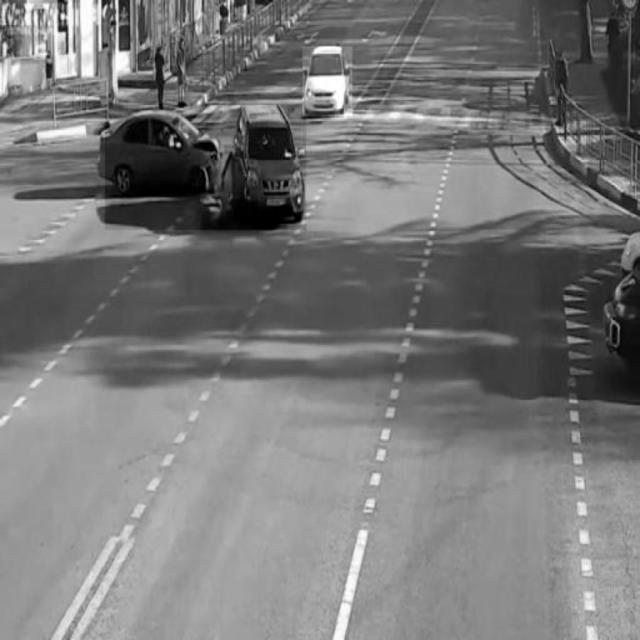accident: (105, 104, 306, 230)
vehicle: (303, 47, 353, 117)
